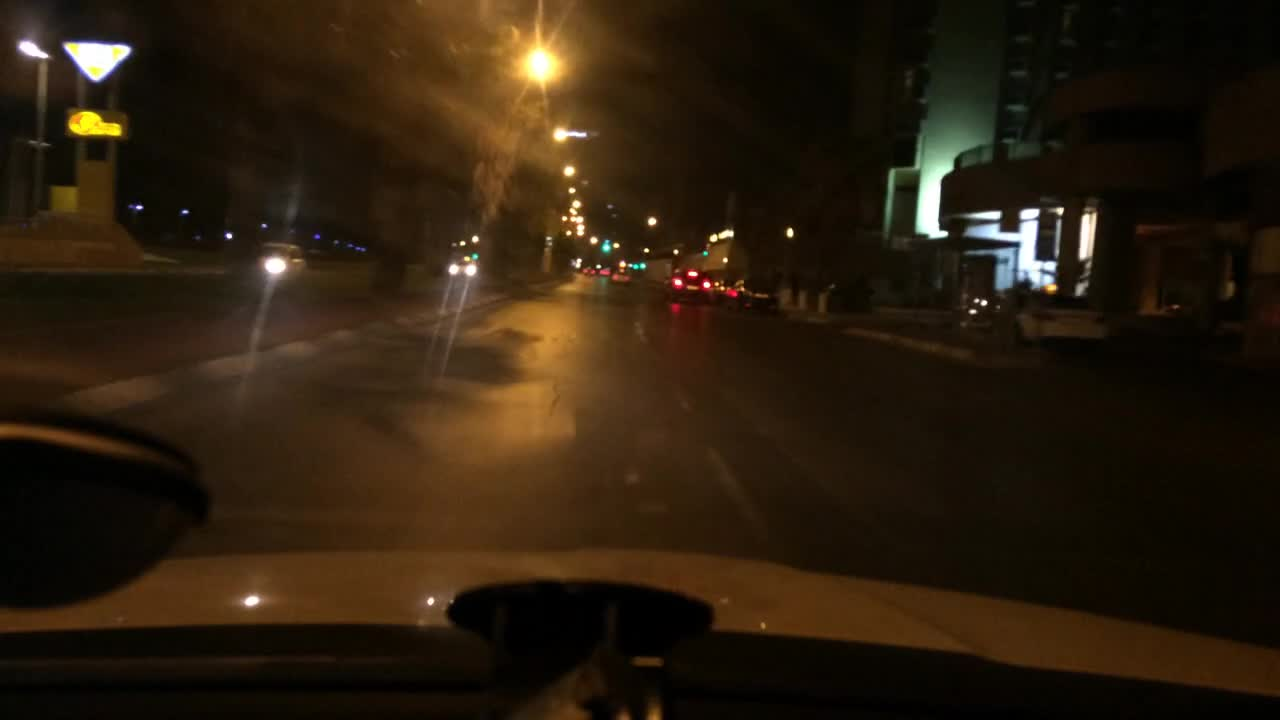car: (1012, 280, 1110, 347), (724, 273, 779, 314), (661, 265, 712, 302), (255, 238, 307, 273), (955, 297, 1002, 331), (445, 260, 477, 275), (712, 275, 730, 300), (609, 268, 631, 285), (597, 266, 611, 278), (582, 265, 595, 275)
